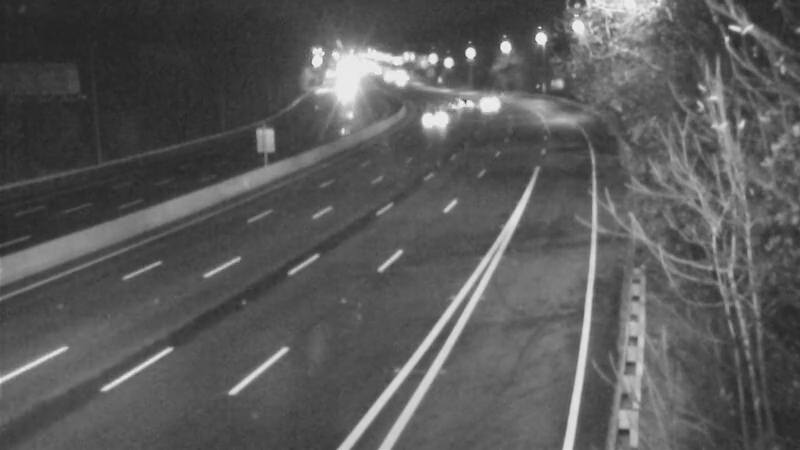vehicle: (464, 79, 514, 129), (441, 79, 491, 129), (412, 94, 462, 144)
